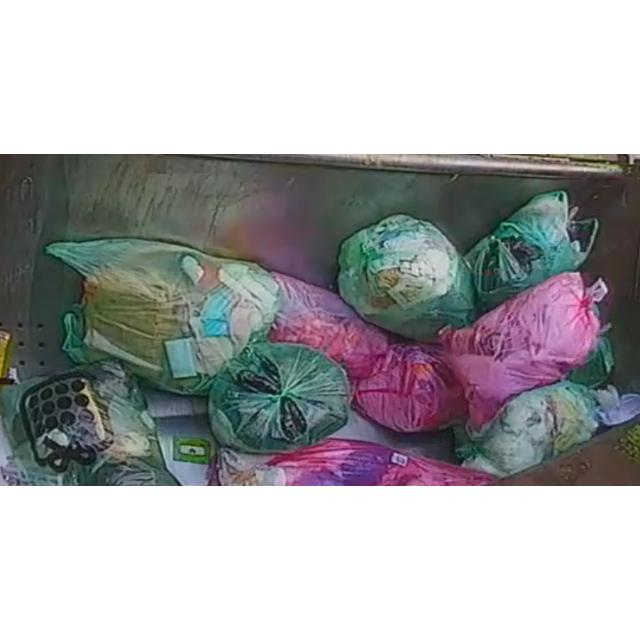general_trashbag: (46, 239, 280, 394), (0, 360, 178, 485), (338, 215, 474, 343), (465, 190, 599, 313), (209, 342, 349, 453), (455, 380, 598, 476), (569, 334, 614, 389)
other_trashbag: (439, 273, 608, 429), (216, 438, 492, 485), (269, 272, 388, 379), (354, 344, 468, 432)
